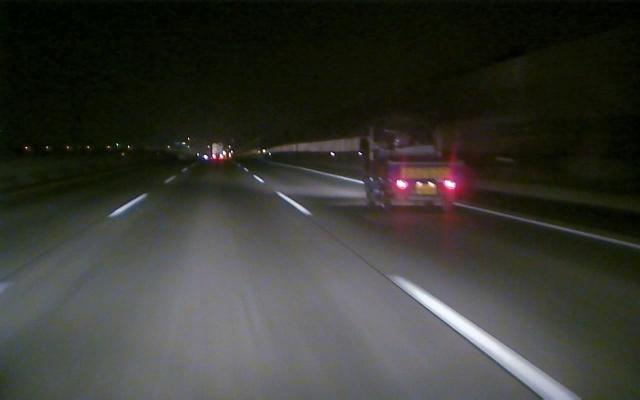lane: (252, 174, 585, 400), (306, 168, 640, 250), (103, 176, 176, 221)
